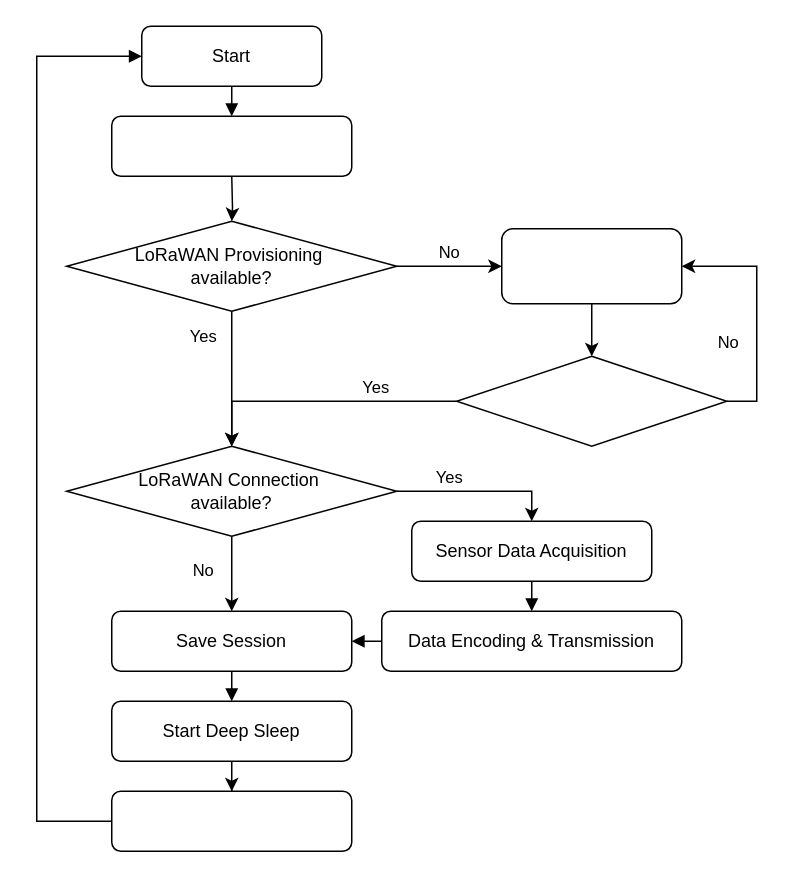
This 795x878 diagram has some shape labels left out. The shapes that lost their labels are listed below. From the top down, each one's centre as x and y in pixels, then its label:
At point 231,145: "Initialization & Setup".
At point 591,265: "Waiting for Input via Serial Interface".
At point 591,400: "Entered Provisioning v alid?".
At point 231,820: "Wake up after x minutes".
